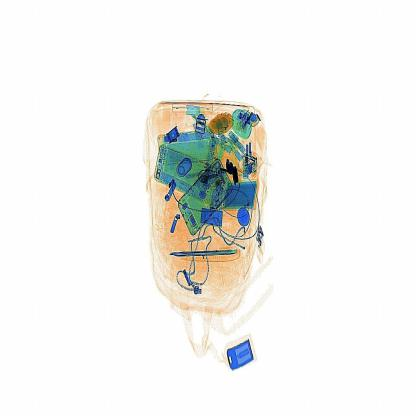pliers: (170, 245, 243, 264)
